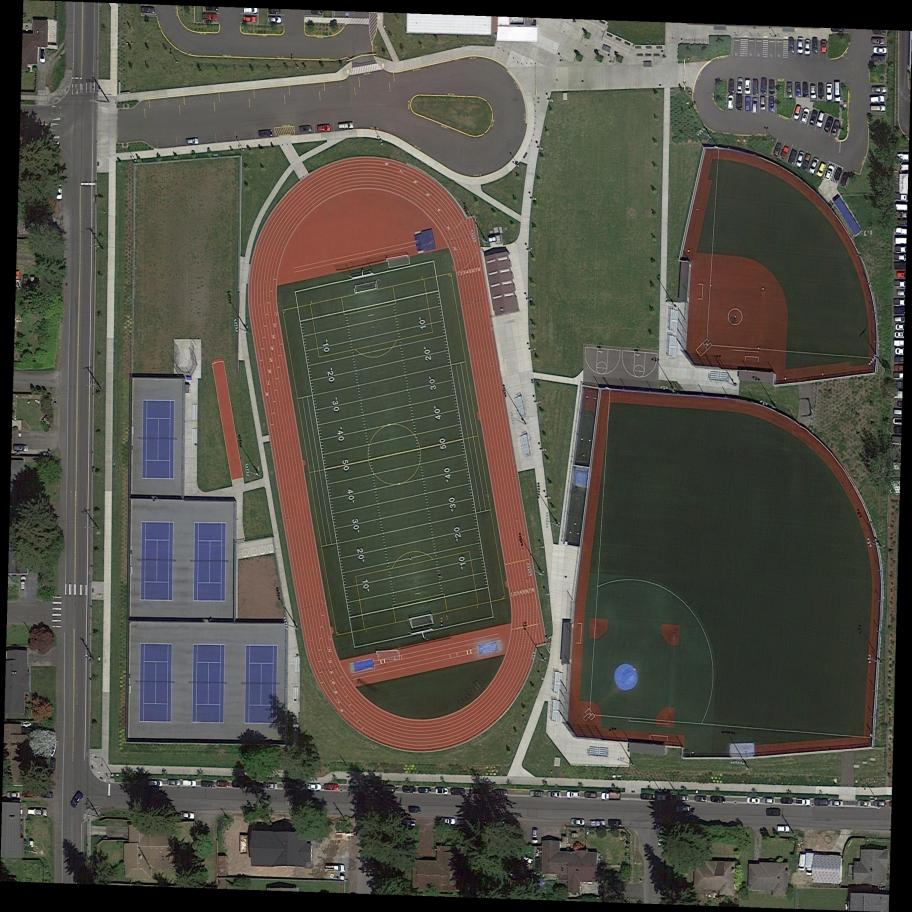small-vehicle: (68, 790, 85, 810), (807, 157, 821, 175), (27, 807, 48, 818), (804, 853, 814, 876), (799, 106, 811, 125), (824, 163, 836, 182), (816, 161, 828, 179), (823, 115, 835, 133), (830, 118, 841, 137), (795, 150, 806, 169), (797, 853, 808, 872), (815, 111, 826, 129), (801, 153, 812, 171), (832, 166, 844, 181), (601, 792, 621, 801), (839, 171, 850, 187), (792, 104, 802, 121), (809, 109, 819, 126), (179, 810, 196, 820), (262, 781, 278, 791), (765, 807, 781, 817), (492, 788, 508, 798), (856, 799, 872, 809), (139, 5, 156, 14), (569, 818, 586, 827), (546, 790, 563, 799), (773, 142, 783, 157), (780, 145, 790, 160), (788, 149, 798, 164), (834, 81, 841, 102), (736, 77, 744, 95), (202, 13, 218, 22), (450, 787, 466, 796), (316, 124, 332, 133), (338, 122, 354, 131), (257, 129, 273, 138), (796, 798, 812, 807), (710, 795, 726, 804), (529, 789, 545, 798), (435, 786, 449, 796), (760, 77, 768, 94), (817, 82, 825, 99), (439, 817, 456, 825), (49, 757, 57, 774), (871, 36, 886, 45), (39, 790, 54, 799), (402, 785, 417, 794), (829, 799, 844, 808), (826, 82, 833, 101), (871, 86, 887, 94), (869, 95, 885, 103), (804, 39, 812, 55), (323, 783, 339, 791), (590, 820, 606, 828), (640, 793, 656, 801), (13, 444, 29, 452), (768, 95, 775, 113), (780, 796, 794, 805), (307, 783, 322, 791), (814, 798, 829, 806), (298, 125, 313, 133), (873, 47, 888, 55), (268, 16, 283, 24), (607, 819, 622, 827), (746, 797, 761, 805), (761, 797, 776, 805), (5, 791, 20, 799), (182, 780, 197, 788), (751, 97, 758, 114), (797, 37, 804, 54), (752, 79, 759, 96), (736, 94, 743, 111), (788, 37, 795, 54), (56, 184, 63, 201), (532, 827, 539, 844), (870, 105, 886, 112), (802, 82, 809, 98), (418, 786, 432, 794), (200, 780, 214, 788), (148, 780, 164, 787), (22, 790, 36, 798), (567, 791, 581, 799), (167, 779, 181, 787), (727, 95, 734, 110), (821, 39, 828, 54), (786, 82, 793, 97), (795, 82, 802, 97), (20, 576, 27, 591), (745, 96, 751, 113), (812, 37, 818, 54), (40, 47, 46, 64), (810, 85, 817, 99), (216, 781, 230, 788), (243, 16, 257, 23), (408, 806, 422, 813), (873, 800, 887, 807), (694, 795, 708, 802), (584, 792, 598, 799), (745, 79, 751, 95), (729, 78, 735, 94), (894, 280, 906, 288), (186, 138, 199, 145), (777, 826, 790, 833), (760, 96, 766, 111), (896, 227, 907, 235), (893, 339, 904, 347), (873, 30, 887, 36), (894, 331, 904, 339), (894, 348, 904, 356), (893, 372, 903, 380), (311, 10, 324, 16), (895, 246, 906, 253), (894, 299, 905, 306), (830, 28, 845, 33), (895, 238, 907, 244), (894, 255, 906, 261), (770, 80, 775, 94), (205, 7, 219, 12), (893, 418, 902, 425), (895, 324, 904, 331), (895, 364, 904, 371), (269, 9, 281, 14), (894, 356, 904, 362), (897, 272, 906, 278), (895, 317, 904, 323), (894, 409, 902, 415), (897, 291, 905, 296), (897, 401, 903, 407)
